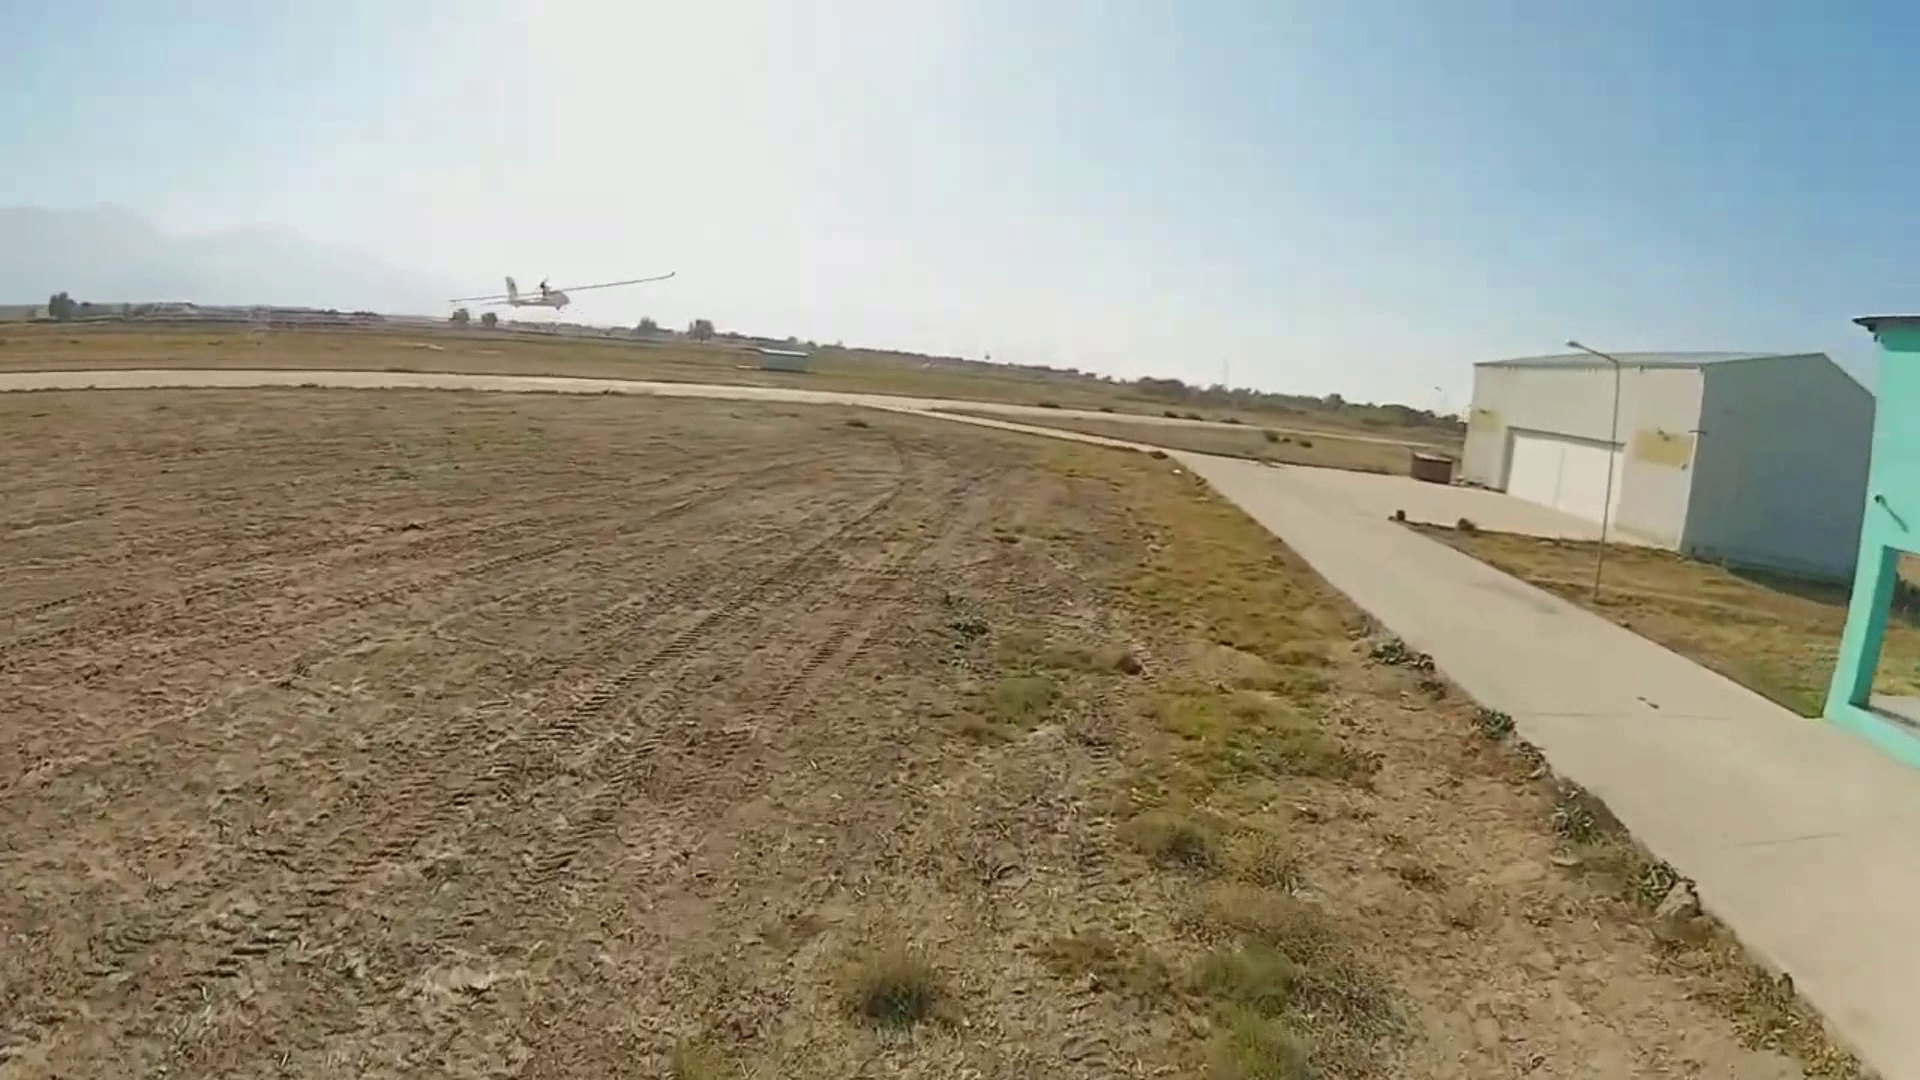airplane: (439, 265, 680, 336)
